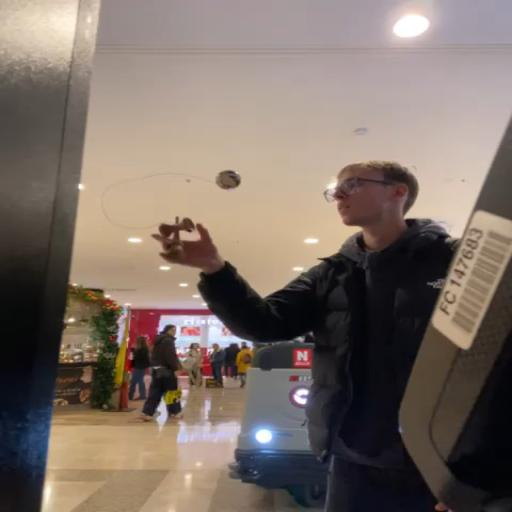kendama_ball: (216, 170, 242, 190)
